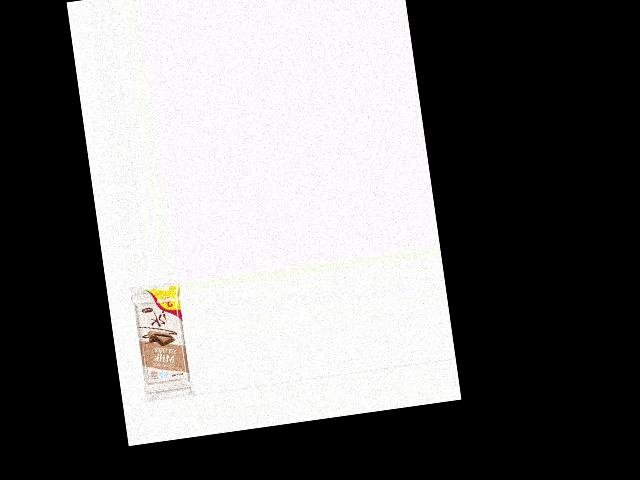chocolate: (127, 280, 193, 392)
